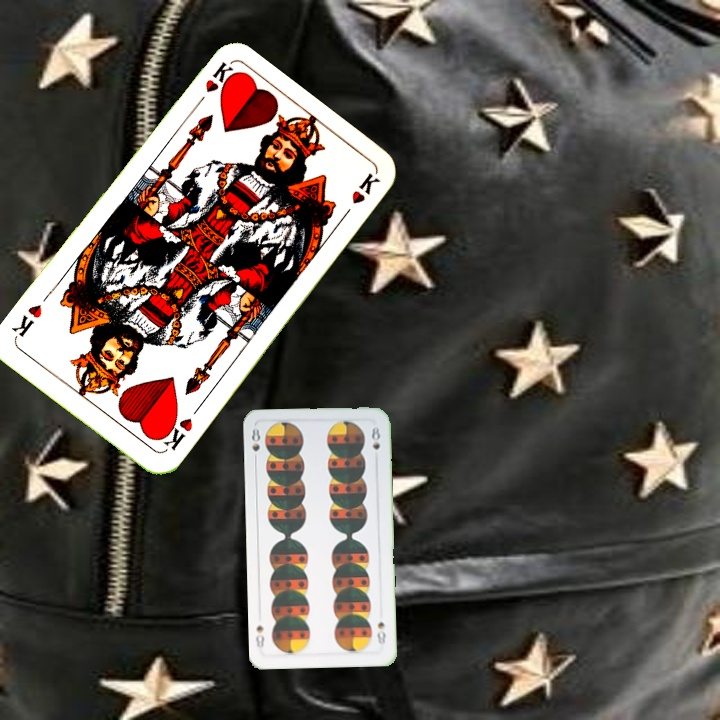HK: (190, 58, 235, 112), (155, 412, 196, 454)
S8: (247, 424, 263, 465), (373, 618, 388, 647)
